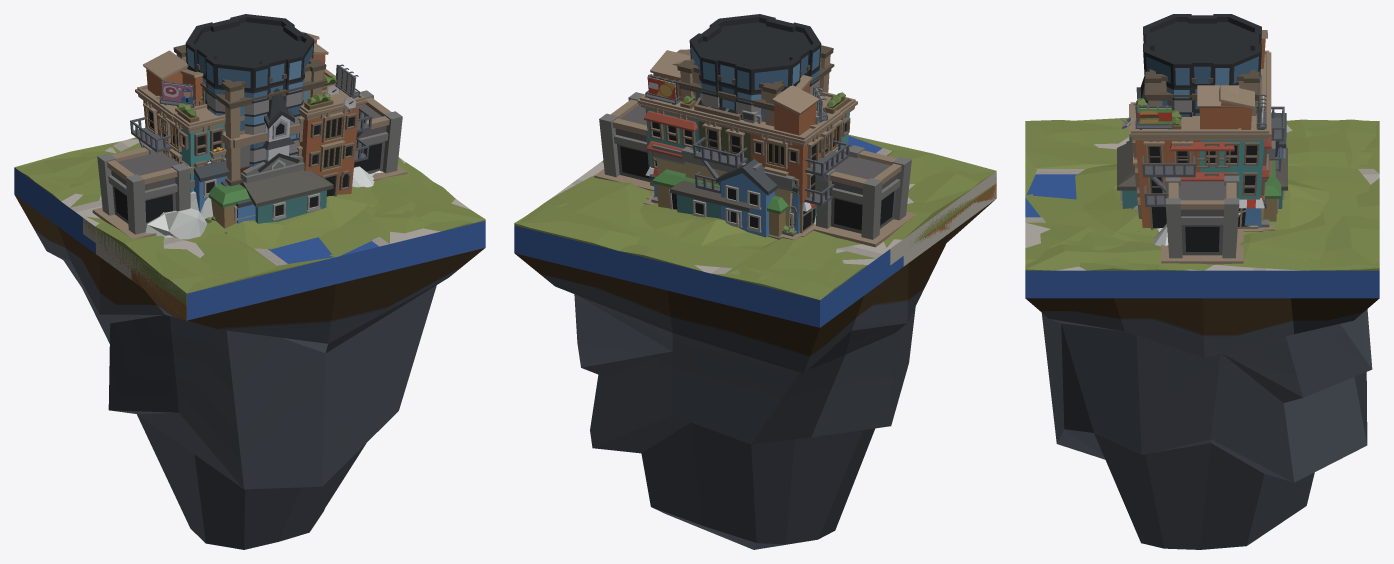
Rendered from VRTemplate-v1.glb.
The picture shows the model from 3 angles, left to right: view 1: azimuth 30°, elevation 25°; view 2: azimuth 150°, elevation 25°; view 3: azimuth 270°, elevation 25°; orthographic projection. The views are drawn at different scales.
Visible parts, largest first — view 1: FloatingIsland, Water, OfficeOctagon, ApartmentsBlock02, Station01, PathGrass02, Grass01, ApartmentsBlock01, Ground, Grass02, House08, RoadGrass03 (+10 smaller); view 2: FloatingIsland, ApartmentsBlock02, Water, Station01, OfficeOctagon, Grass01, Grass02, PathGrass02, RoadGrass03, House11, RoadConcrete04, Ground (+7 smaller); view 3: FloatingIsland, ApartmentsBlock02, Water, Grass01, OfficeOctagon, Station01, Grass02, RoadGrass03, Ground, PathGrass02, ApartmentsBlock01, House08 (+9 smaller).
Part boxes in pixels (left/top/right/bottom): FloatingIsland: left=15, top=195, right=484, bottom=549; Water: left=14, top=167, right=485, bottom=320; OfficeOctagon: left=185, top=14, right=314, bottom=166; ApartmentsBlock02: left=130, top=31, right=372, bottom=196; Station01: left=92, top=90, right=407, bottom=238; PathGrass02: left=21, top=141, right=479, bottom=320; Grass01: left=35, top=142, right=432, bottom=291; ApartmentsBlock01: left=150, top=44, right=341, bottom=192; Ground: left=174, top=186, right=378, bottom=249; Grass02: left=15, top=145, right=432, bottom=293; House08: left=240, top=170, right=333, bottom=223; RoadGrass03: left=14, top=141, right=485, bottom=239; FloatingIsland: left=515, top=200, right=994, bottom=549; ApartmentsBlock02: left=637, top=50, right=849, bottom=236; Water: left=514, top=136, right=903, bottom=327; Station01: left=594, top=92, right=915, bottom=247; OfficeOctagon: left=689, top=14, right=821, bottom=121; Grass01: left=515, top=134, right=976, bottom=299; Grass02: left=514, top=150, right=996, bottom=296; PathGrass02: left=518, top=148, right=995, bottom=295; RoadGrass03: left=514, top=161, right=893, bottom=299; House11: left=649, top=159, right=800, bottom=237; RoadConcrete04: left=553, top=171, right=996, bottom=273; Ground: left=639, top=190, right=814, bottom=246; FloatingIsland: left=1025, top=298, right=1379, bottom=549; ApartmentsBlock02: left=1120, top=30, right=1284, bottom=231; Water: left=1025, top=174, right=1379, bottom=298; Grass01: left=1025, top=119, right=1379, bottom=270; OfficeOctagon: left=1143, top=14, right=1261, bottom=116; Station01: left=1161, top=175, right=1243, bottom=264; Grass02: left=1025, top=121, right=1379, bottom=270; RoadGrass03: left=1025, top=121, right=1379, bottom=270; Ground: left=1075, top=163, right=1329, bottom=241; PathGrass02: left=1025, top=119, right=1379, bottom=270; ApartmentsBlock01: left=1162, top=85, right=1241, bottom=181; House08: left=1117, top=141, right=1287, bottom=208.
Size of the model in its own units: 5 by 7.93 by 5.
2 materials, 2 textured.
